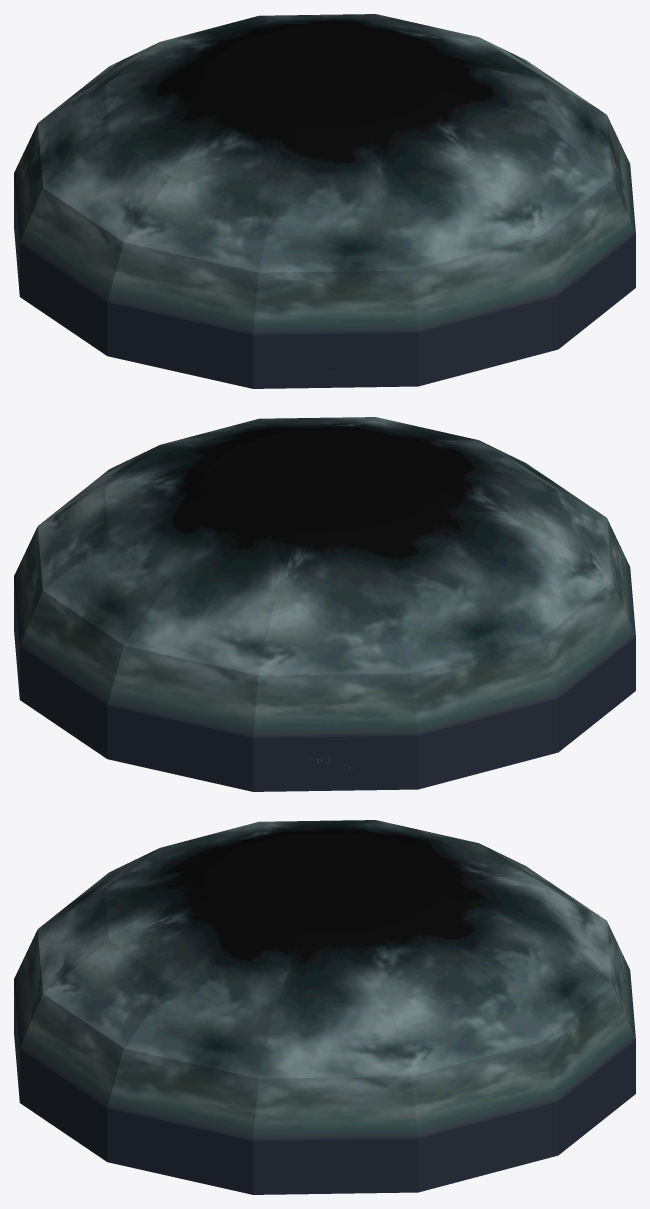
The model's file is recovered_map_m83.glb.
3 renders of one model, top to bottom at view 1: azimuth 30°, elevation 25°; view 2: azimuth 150°, elevation 25°; view 3: azimuth 270°, elevation 25°, orthographic.
Parts seen in each view (by area): view 1: S_sky01, S_skyskirt01, S_skytop01; view 2: S_sky01, S_skyskirt01, S_skytop01; view 3: S_sky01, S_skyskirt01, S_skytop01.
Boxes of the visible parts, left/top/right/bottom form: S_sky01: left=14, top=14, right=635, bottom=334; S_skyskirt01: left=14, top=175, right=635, bottom=388; S_skytop01: left=206, top=27, right=443, bottom=127; S_sky01: left=14, top=417, right=635, bottom=737; S_skyskirt01: left=14, top=578, right=635, bottom=791; S_skytop01: left=206, top=430, right=443, bottom=530; S_sky01: left=14, top=820, right=635, bottom=1140; S_skyskirt01: left=14, top=981, right=635, bottom=1194; S_skytop01: left=206, top=833, right=443, bottom=933.
Size of what is drawn, in the model's own units: 469 by 150 by 469.
114 materials, 114 textured.
